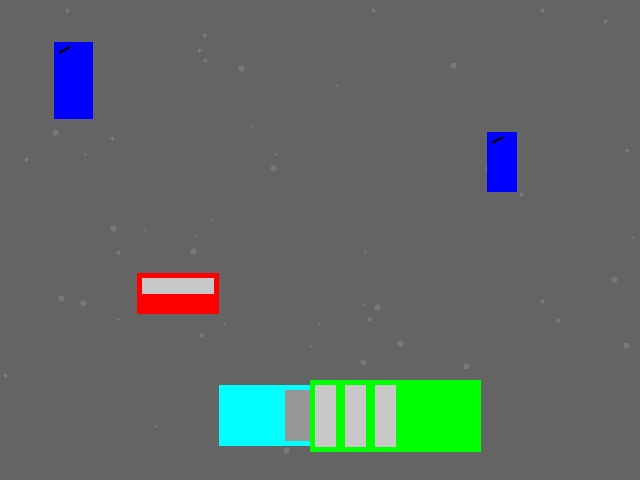bus: (310, 380, 480, 451)
car: (137, 273, 218, 313)
motorcycle: (54, 42, 92, 118), (487, 132, 516, 191)
truck: (219, 385, 352, 445)
